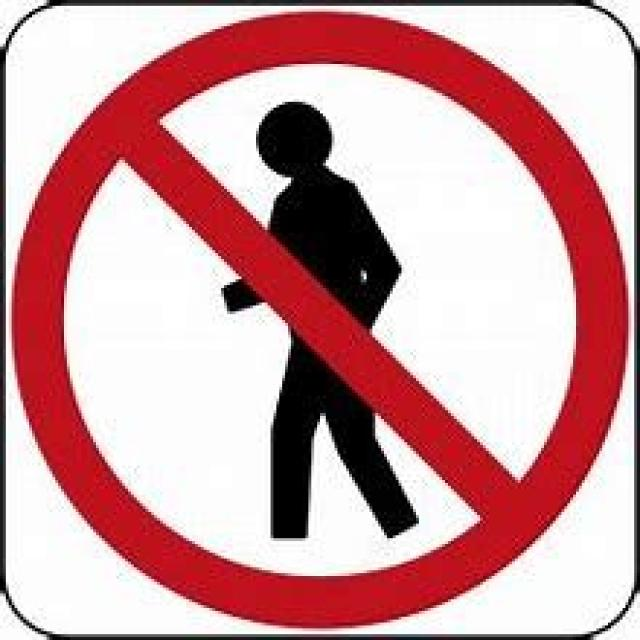Priority road: (9, 6, 628, 625)
